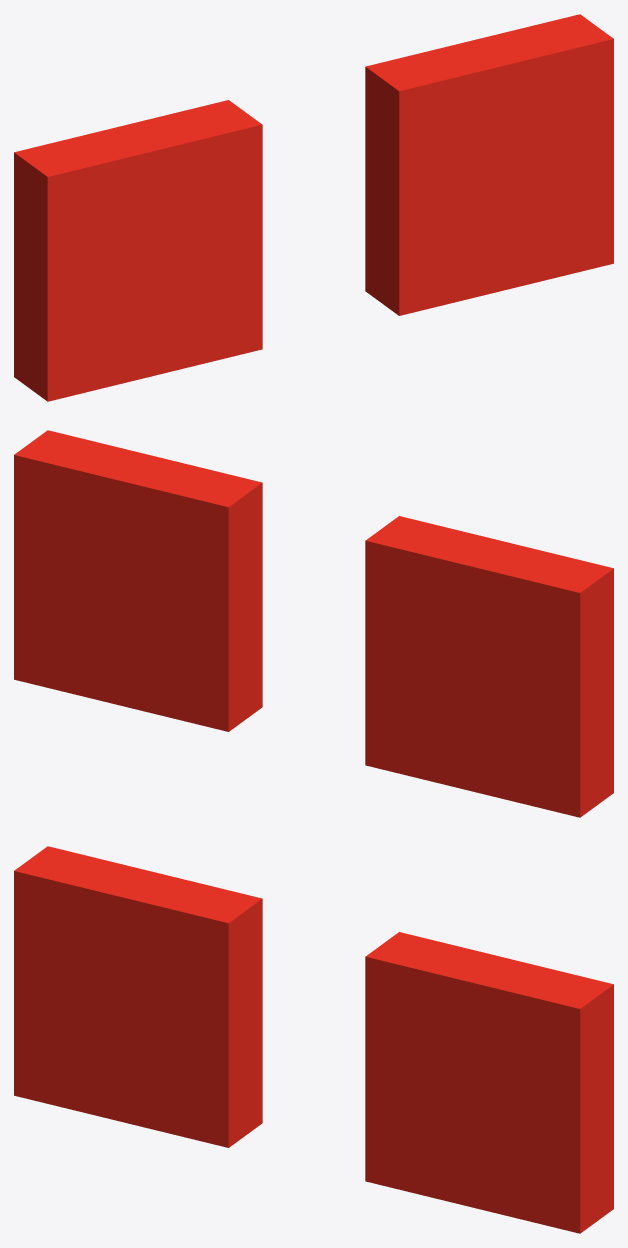
The model's file is signal_light.obj.
3 views of the same model, one above another, from view 1: azimuth 30°, elevation 25°; view 2: azimuth 150°, elevation 25°; view 3: azimuth 330°, elevation 25° (orthographic).
Bounding box in the file's own units: 0.29 × 0.11 × 0.03.
